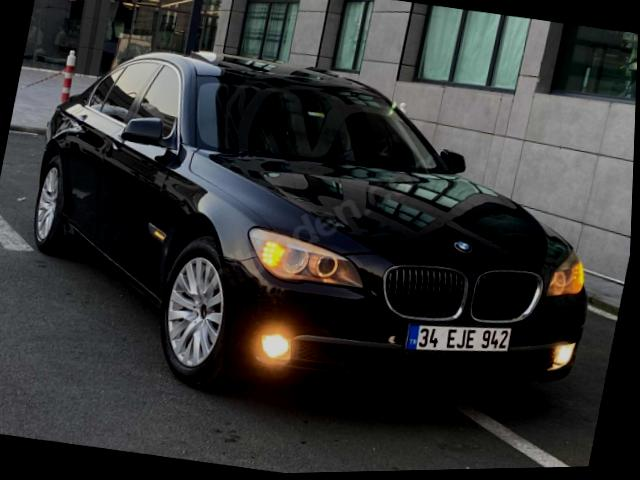plaka: (406, 325, 510, 352)
